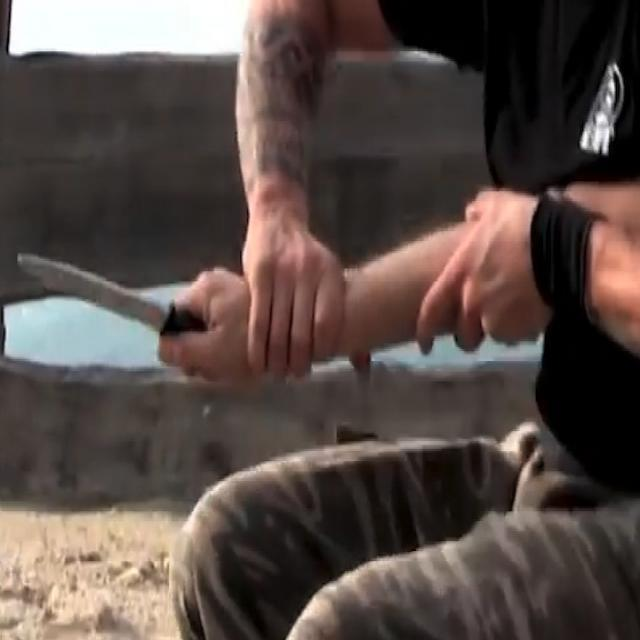suspicion: (10, 181, 635, 405), (14, 251, 211, 338)
